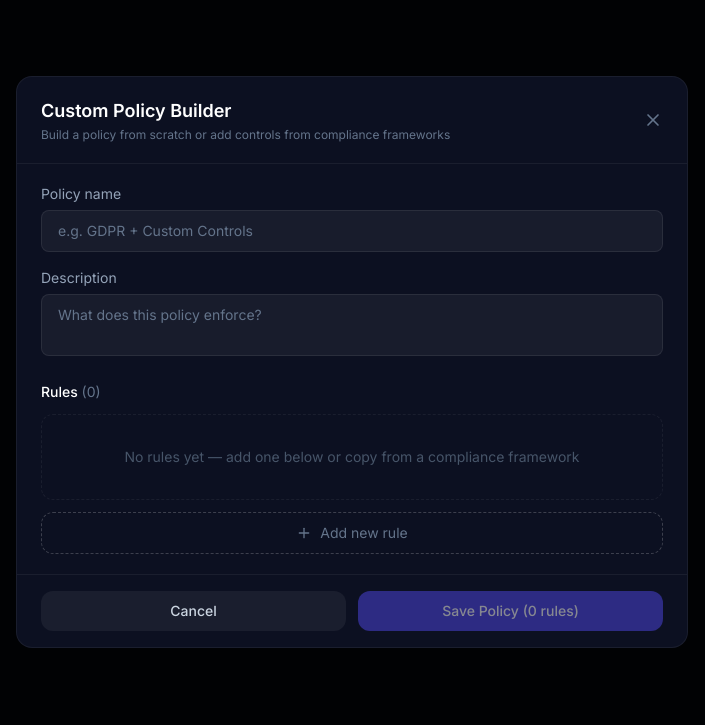
CustomPolicyBuilder › opens rule type selector when Add new rule clicked
Click the button "Add new rule" at (352, 533), box [41, 512, 663, 554]
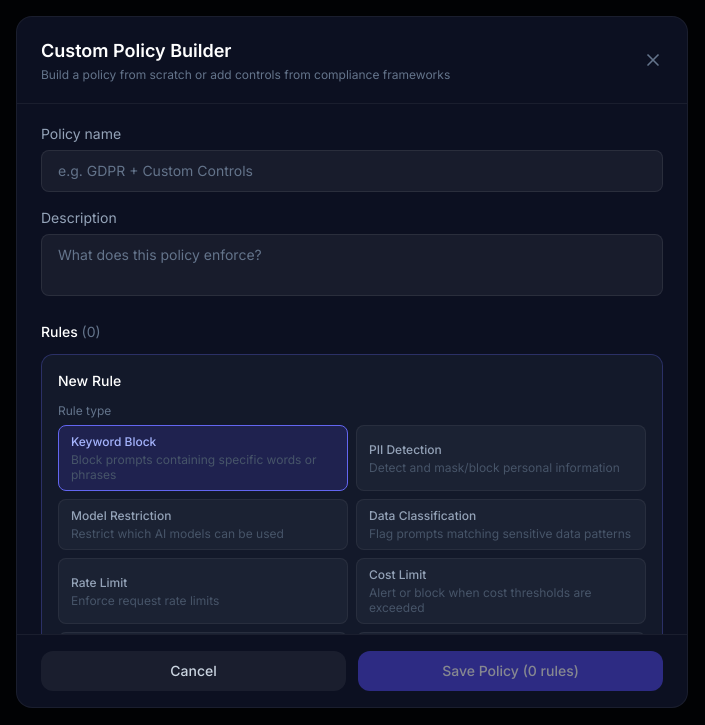
Result: the text "Keyword Block" is shown at [71, 434, 156, 449]
Result: the text "PII Detection" is shown at [369, 442, 442, 457]
Result: the text "Model Restriction" is shown at [71, 508, 171, 523]
